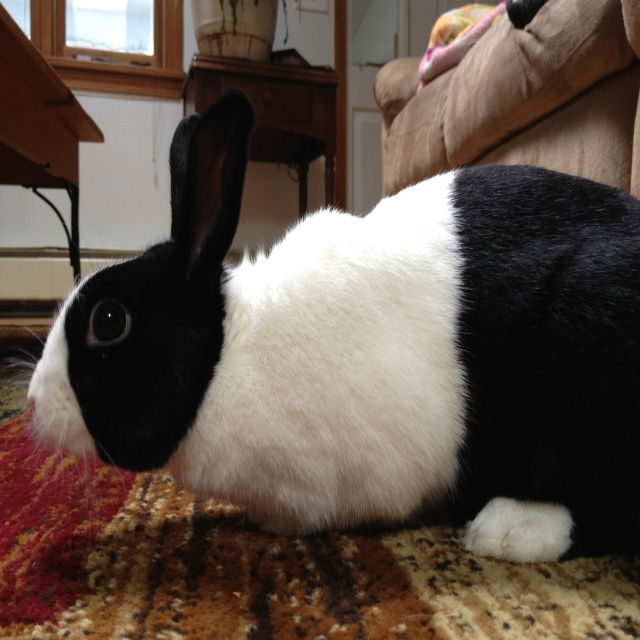Rabbit: (0, 89, 639, 563)
